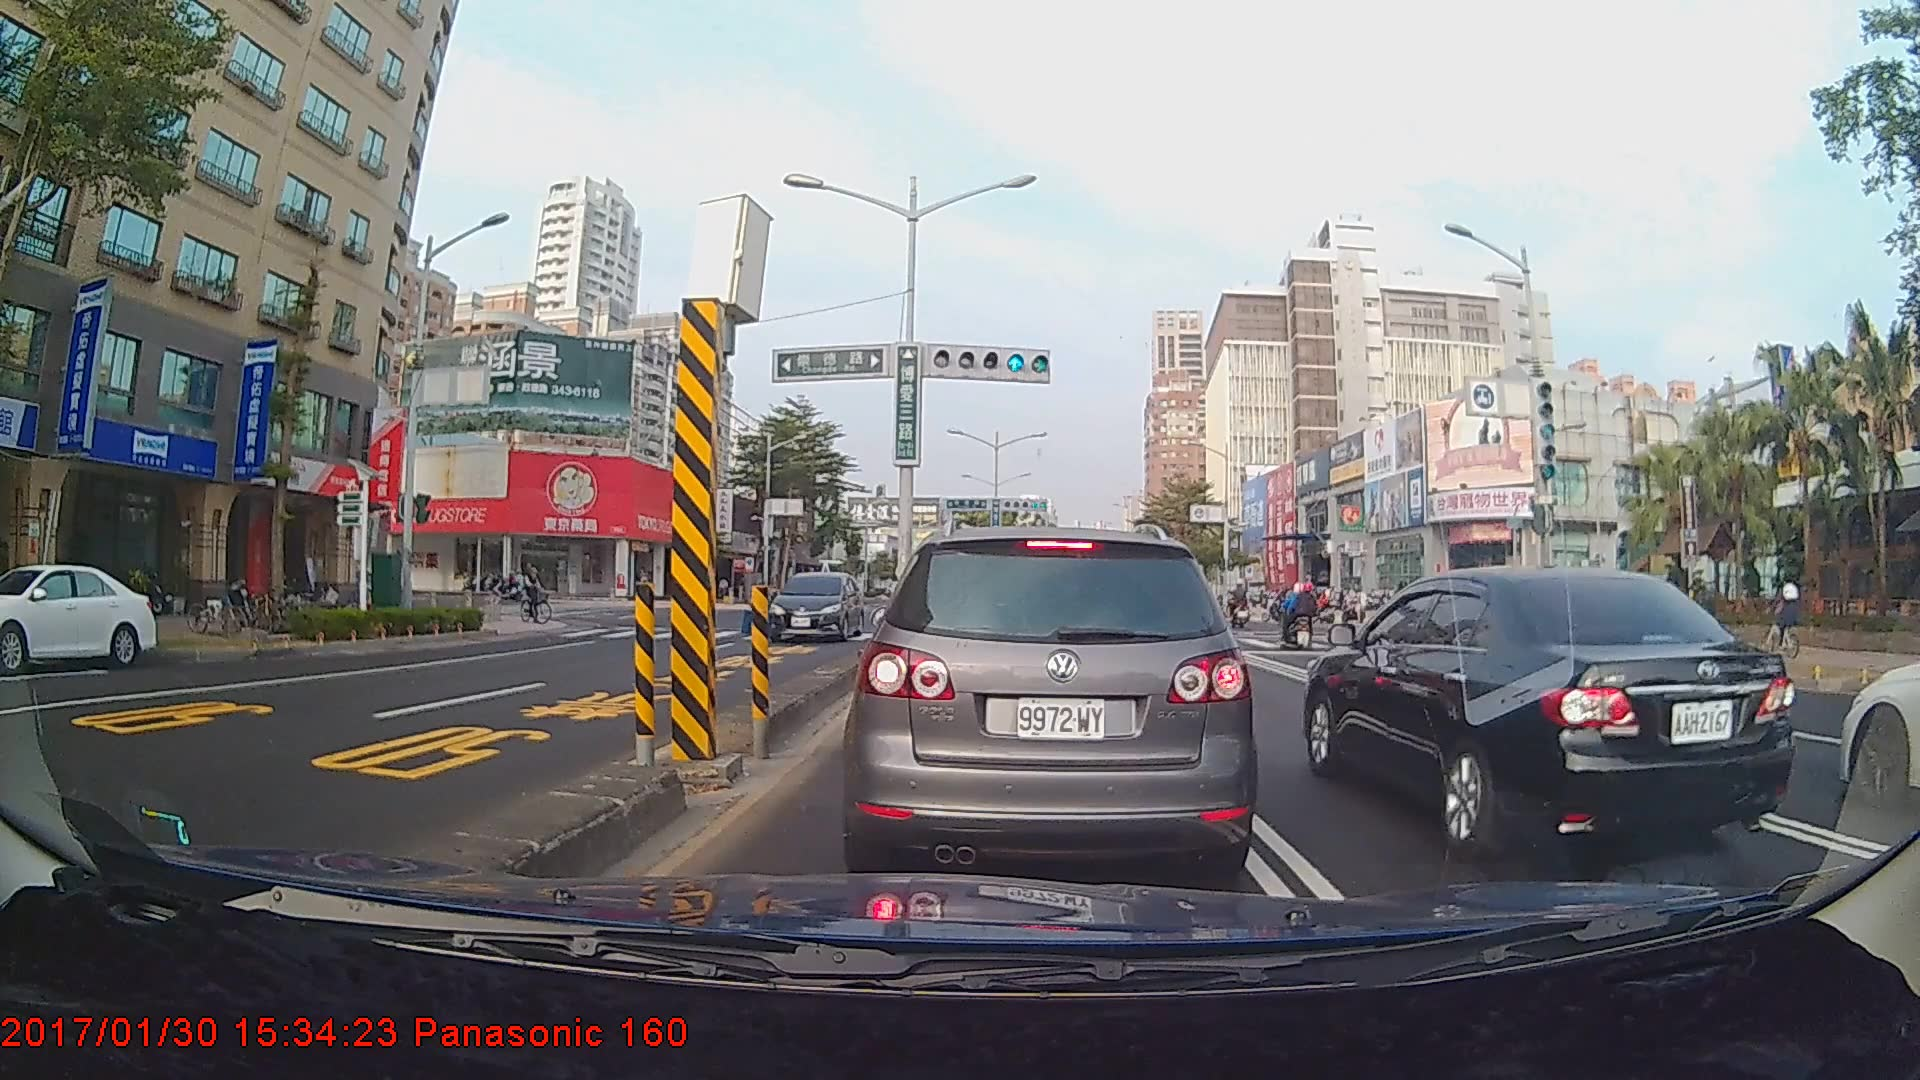rider: (1762, 578, 1814, 656), (1276, 582, 1329, 653), (518, 559, 561, 629), (487, 564, 531, 603)
vehicle: (1306, 562, 1795, 861), (852, 520, 1251, 879), (1836, 579, 1920, 817), (0, 561, 157, 671), (765, 571, 866, 641)
